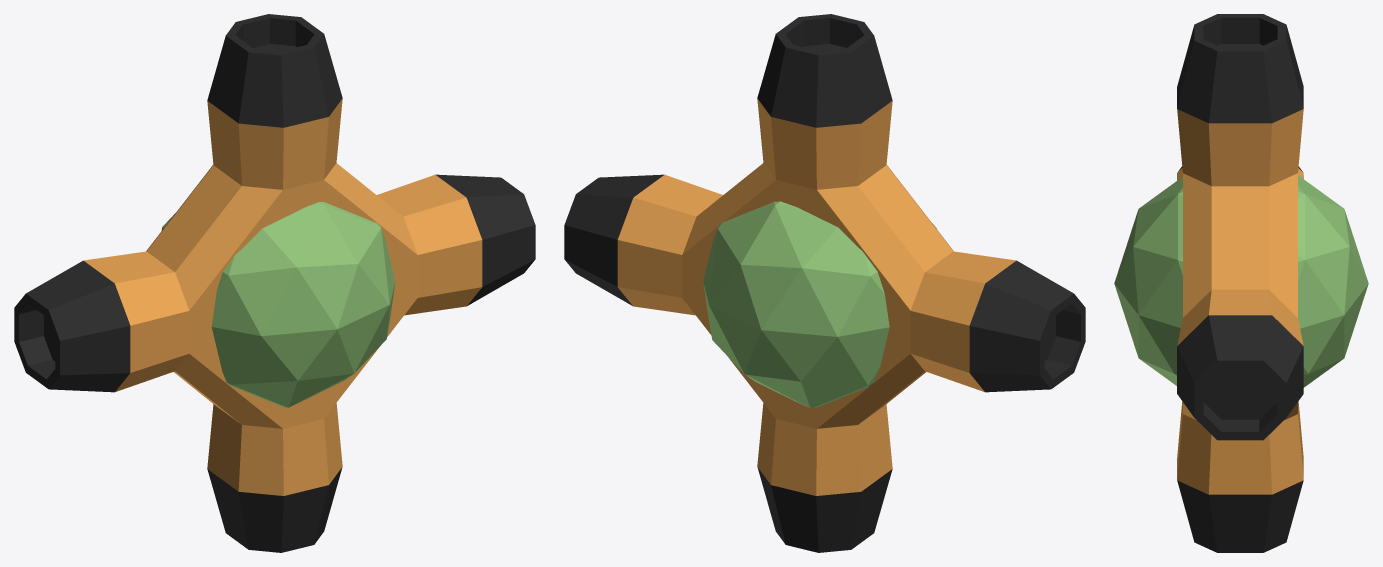
The model's file is ship.glb.
3 views of the same model, side by side, from view 1: azimuth 30°, elevation 25°; view 2: azimuth 150°, elevation 25°; view 3: azimuth 270°, elevation 25° (orthographic).
Visible parts, largest first — view 1: Body.002, Icosphere; view 2: Body.002, Icosphere; view 3: Body.002, Icosphere.
Part boxes in pixels (x1=…): Body.002: x1=14, y1=14, x2=535, y2=552; Icosphere: x1=161, y1=202, x2=395, y2=407; Body.002: x1=564, y1=14, x2=1085, y2=552; Icosphere: x1=703, y1=201, x2=936, y2=408; Body.002: x1=1177, y1=14, x2=1303, y2=552; Icosphere: x1=1114, y1=175, x2=1368, y2=387.
Bounding box in the file's own units: 3.85 × 3.85 × 1.77.
